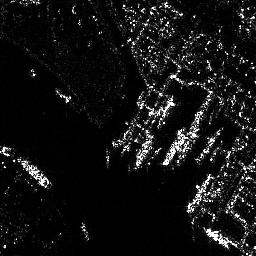ship: (161, 127, 188, 165), (186, 173, 211, 213), (20, 159, 52, 190), (195, 128, 223, 163), (134, 134, 154, 167), (203, 227, 230, 248), (158, 96, 174, 128)
